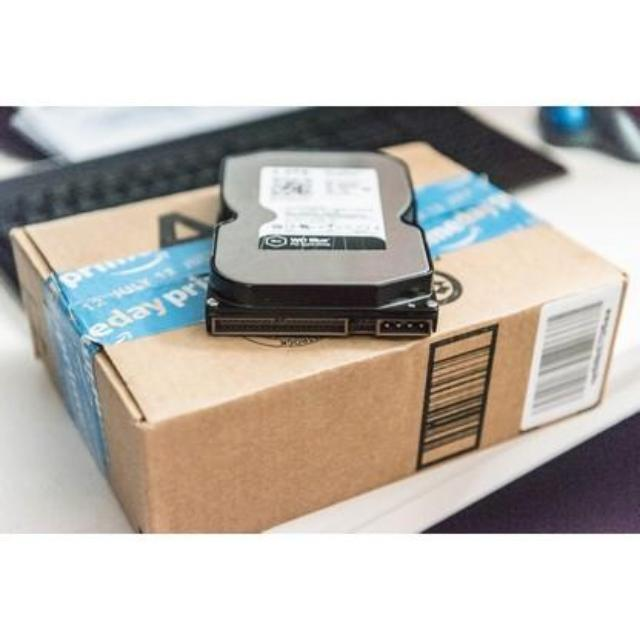DISK: (210, 148, 424, 302)
